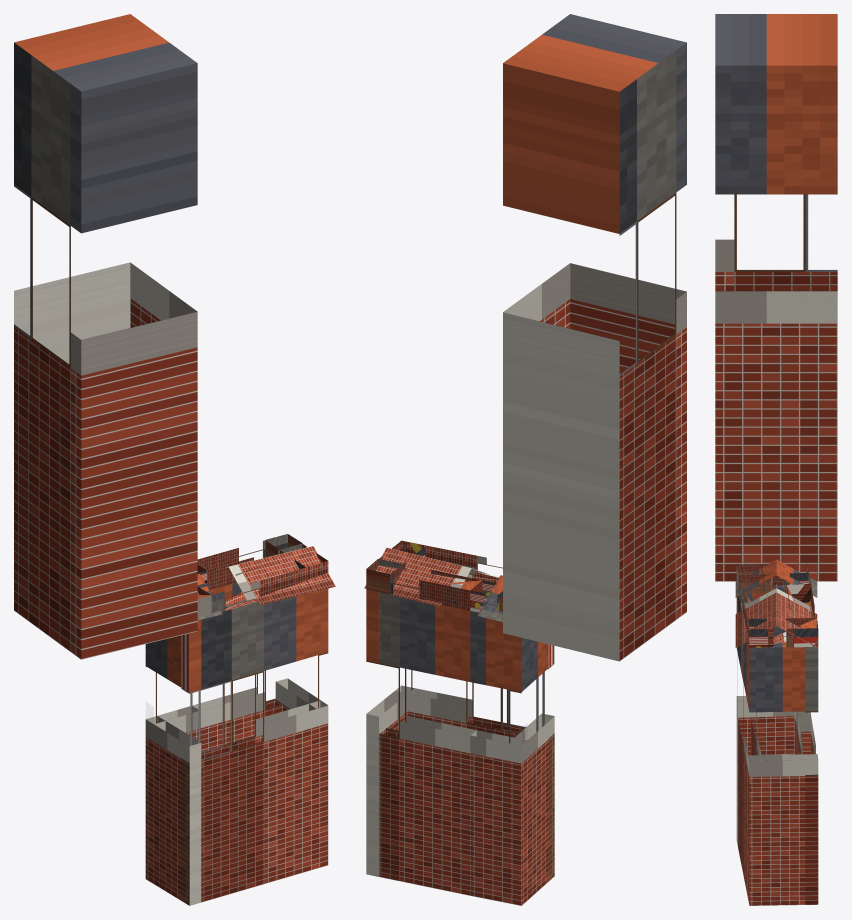
3 views of the same model, side by side, from view 1: azimuth 30°, elevation 25°; view 2: azimuth 150°, elevation 25°; view 3: azimuth 270°, elevation 25° (orthographic). The views are drawn at different scales.
Parts seen in each view (by area): view 1: 238563117__chimney_0_xb, 238563117__wall_0_xb, 238563117__wall_4_xb, 238563117__wall_2_xb, 238563117_roof_-1_xb, 238563117__cornice_0, 238563117__cornice_2, 238563117__wall_1_xb, 238563117__wall_3_xb; view 2: 238563117__chimney_0_xb, 238563117__wall_2_xb, 238563117__wall_3_xb, 238563117__wall_4_xb, 238563117__wall_0_xb, 238563117__wall_1_xb, 238563117_roof_1_xb, 238563117__cornice_2, 238563117__cornice_0, 238563117__cornice_1; view 3: 238563117__chimney_0_xb, 238563117__wall_1_xb, 238563117__wall_2_xb, 238563117__wall_4_xb, 238563117__wall_0_xb, 238563117_roof_-1_xb, 238563117_roof_1_xb, 238563117__cornice_1, 238563117__cornice_4, 238563117__cornice_2, 238563117__wall_3_xb, 238563117__cornice_0 (+1 smaller).
Part boxes in pixels (x1,y1,x2,y2): 238563117__chimney_0_xb: (14, 14, 197, 659); 238563117__wall_0_xb: (181, 588, 328, 905); 238563117__wall_4_xb: (145, 619, 201, 905); 238563117__wall_2_xb: (192, 582, 283, 751); 238563117_roof_-1_xb: (197, 546, 335, 620); 238563117__cornice_0: (197, 553, 328, 613); 238563117__cornice_2: (197, 534, 302, 589); 238563117__wall_1_xb: (275, 652, 328, 710); 238563117__wall_3_xb: (146, 706, 198, 740); 238563117__chimney_0_xb: (503, 14, 686, 661); 238563117__wall_2_xb: (366, 592, 476, 895); 238563117__wall_3_xb: (470, 606, 527, 905); 238563117__wall_4_xb: (509, 638, 554, 905); 238563117__wall_0_xb: (395, 590, 554, 881); 238563117__wall_1_xb: (366, 589, 414, 876); 238563117_roof_1_xb: (364, 547, 502, 621); 238563117__cornice_2: (368, 559, 482, 610); 238563117__cornice_0: (392, 540, 502, 582); 238563117__cornice_1: (366, 541, 425, 594); 238563117__chimney_0_xb: (715, 14, 837, 581); 238563117__wall_1_xb: (749, 641, 818, 905); 238563117__wall_2_xb: (798, 602, 818, 904); 238563117__wall_4_xb: (736, 584, 807, 846); 238563117__wall_0_xb: (736, 593, 762, 903); 238563117_roof_-1_xb: (735, 559, 776, 647); 238563117_roof_1_xb: (776, 560, 817, 647); 238563117__cornice_1: (748, 618, 818, 647); 238563117__cornice_4: (736, 563, 808, 593); 238563117__cornice_2: (786, 584, 818, 647); 238563117__wall_3_xb: (794, 711, 810, 754); 238563117__cornice_0: (738, 564, 773, 647).
Bounding box in the file's own units: 0.3428 × 1.05 × 0.15.
Materials: 1 (1 with a texture image).
